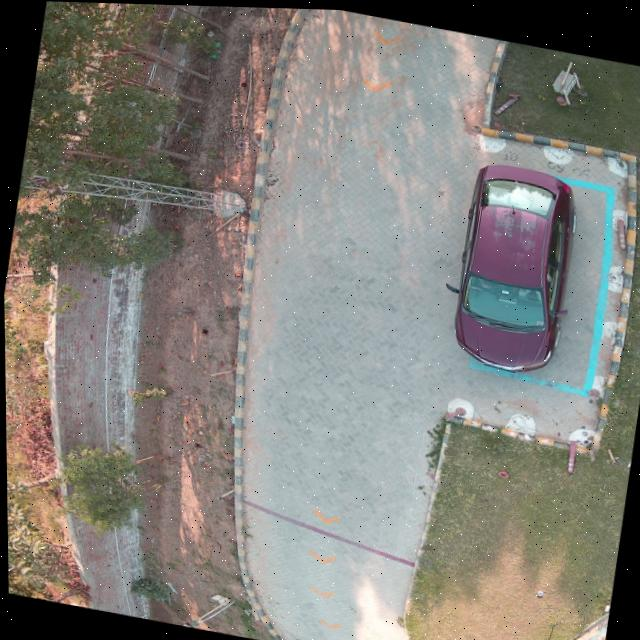car: (452, 160, 577, 369)
